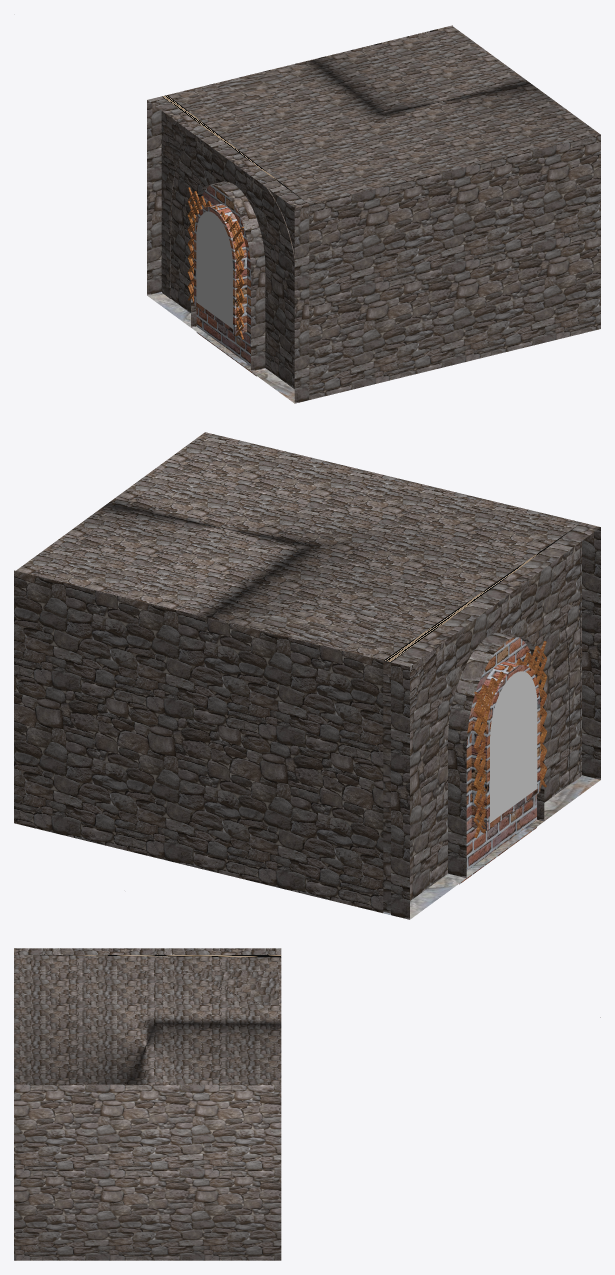
Rendered from home.fbx.
3 views of the same model, one above another, from view 1: azimuth 30°, elevation 25°; view 2: azimuth 150°, elevation 25°; view 3: azimuth 270°, elevation 25° (orthographic). The views are drawn at different scales.
Visible parts, largest first — view 1: Plane.004; view 2: Plane.004; view 3: Plane.004.
Part boxes in pixels (x1,y1,x2,y2): Plane.004: (147, 25, 600, 403); Plane.004: (14, 432, 600, 919); Plane.004: (14, 948, 600, 1260).
Bounding box in the file's own units: 545 × 336 × 979.
